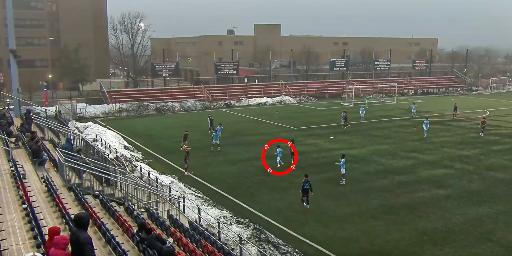highlight_overlay: (260, 139, 300, 177)
